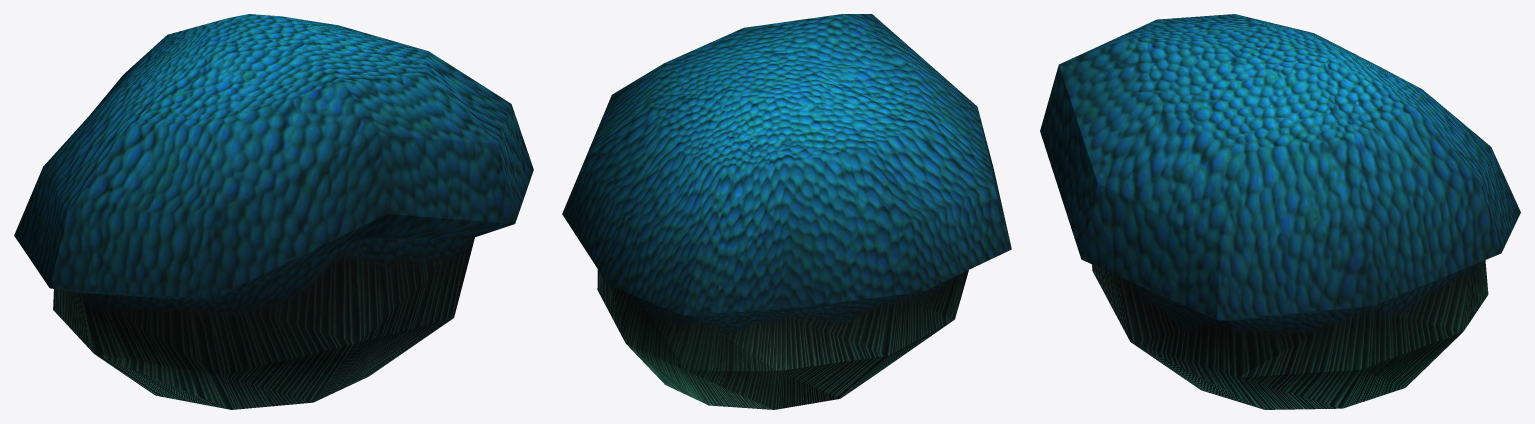
Rendered from MushroomBlueSmall.obj.
The picture shows the model from 3 angles, left to right: view 1: azimuth 30°, elevation 25°; view 2: azimuth 150°, elevation 25°; view 3: azimuth 270°, elevation 25°; orthographic projection. The views are drawn at different scales.
Visible parts, largest first — view 1: MushroomBlueSmall; view 2: MushroomBlueSmall; view 3: MushroomBlueSmall.
Boxes of the visible parts, bbox=[...] form: MushroomBlueSmall: bbox=[14, 14, 533, 409]; MushroomBlueSmall: bbox=[562, 14, 1011, 409]; MushroomBlueSmall: bbox=[1040, 14, 1520, 409].
Bounding box in the file's own units: 0.1233 × 0.0863 × 0.112.
